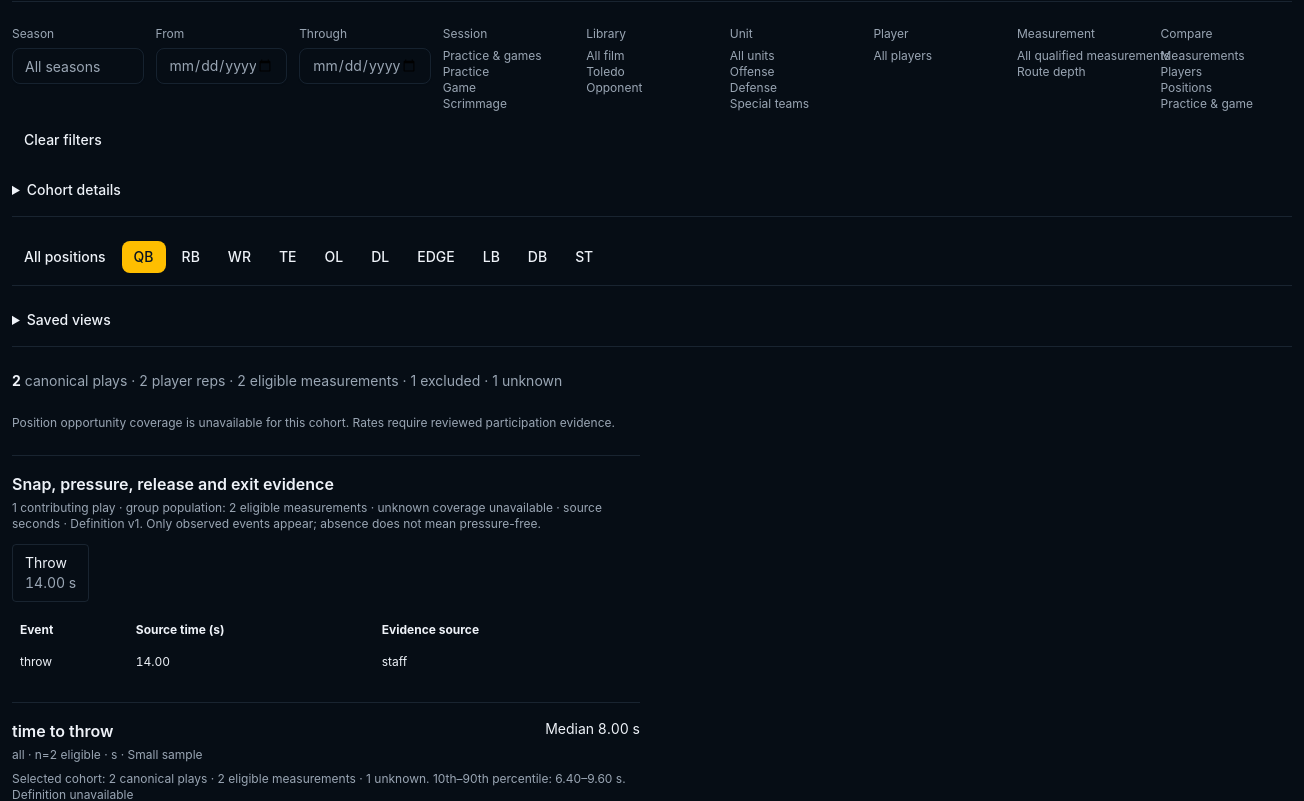
Test: event evidence opens the selected source instant relative to the clip
Click the button with aria-label "Inspect throw at 14.00 seconds": point(51, 573) [12,544,89,602]
(page scrolled)
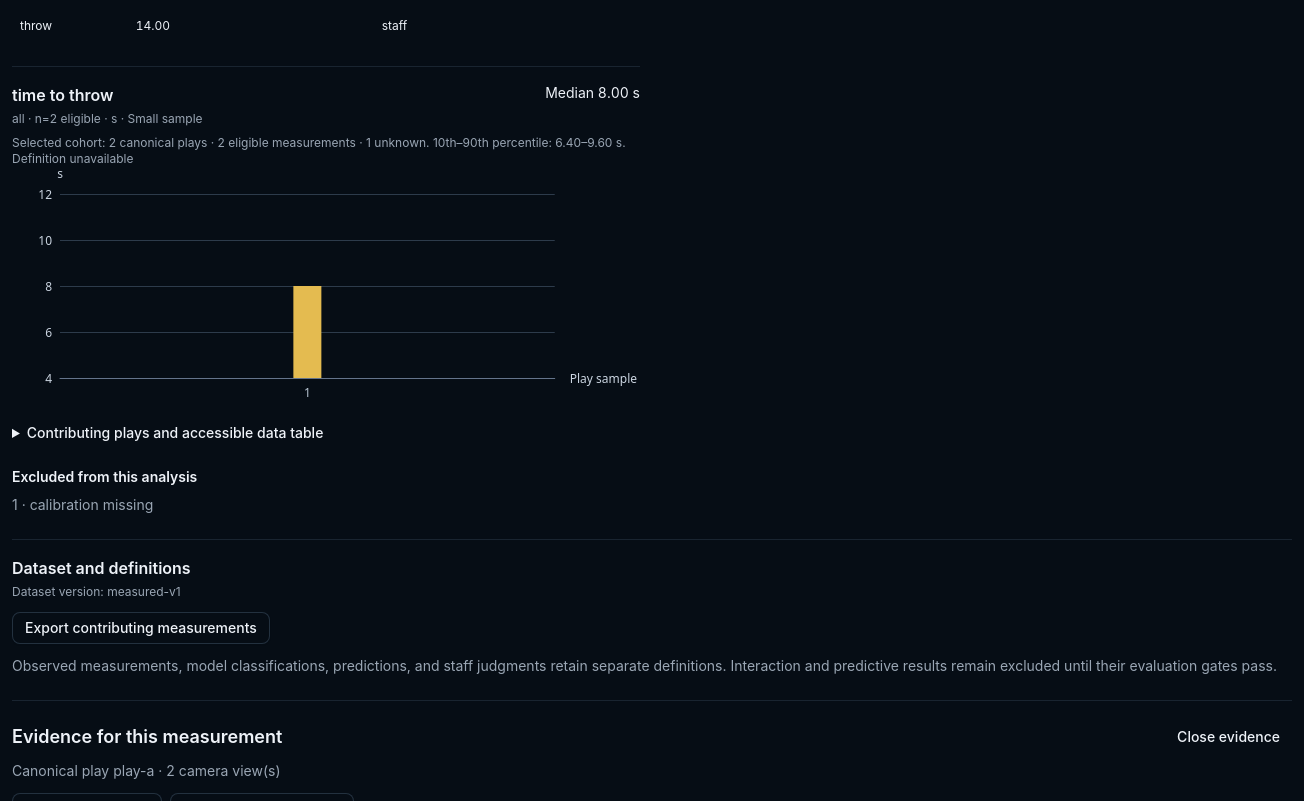
Expected: the text "Canonical play play-a · 2 camera view(s)" is shown, [12,762,280,779]
